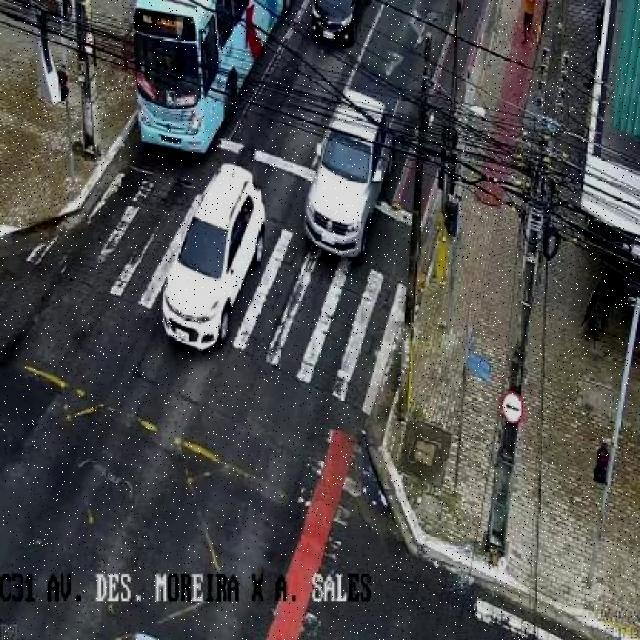Bus: (124, 0, 302, 159)
Car: (157, 164, 270, 350), (303, 0, 374, 52)
Truck: (300, 73, 409, 256)
